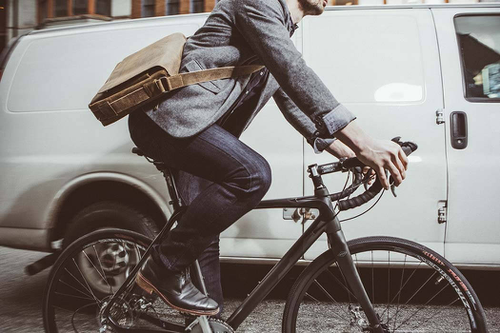bikerider: (16, 1, 493, 331)
